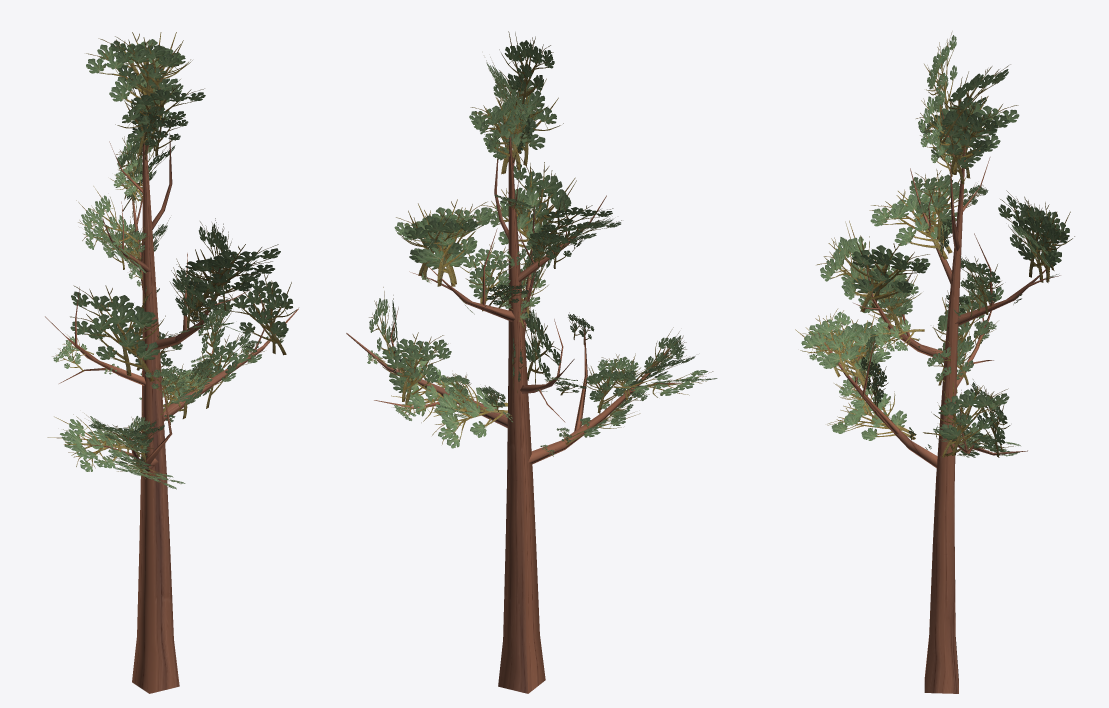
The model's file is TemperateTree_LOD.glb.
3 views of the same model, side by side, from view 1: azimuth 30°, elevation 25°; view 2: azimuth 150°, elevation 25°; view 3: azimuth 270°, elevation 25° (orthographic). The views are drawn at different scales.
Visible parts, largest first — view 1: tree_leaves_particles_lod_1; view 2: tree_leaves_particles_lod_1; view 3: tree_leaves_particles_lod_1.
Part boxes in pixels (box(x1,y1,x2,y2)): tree_leaves_particles_lod_1: box(45, 32, 298, 693); tree_leaves_particles_lod_1: box(346, 31, 717, 693); tree_leaves_particles_lod_1: box(795, 31, 1074, 693).
Bounding box in the file's own units: 5.94 × 12 × 5.4.
2 materials, 2 textured.
